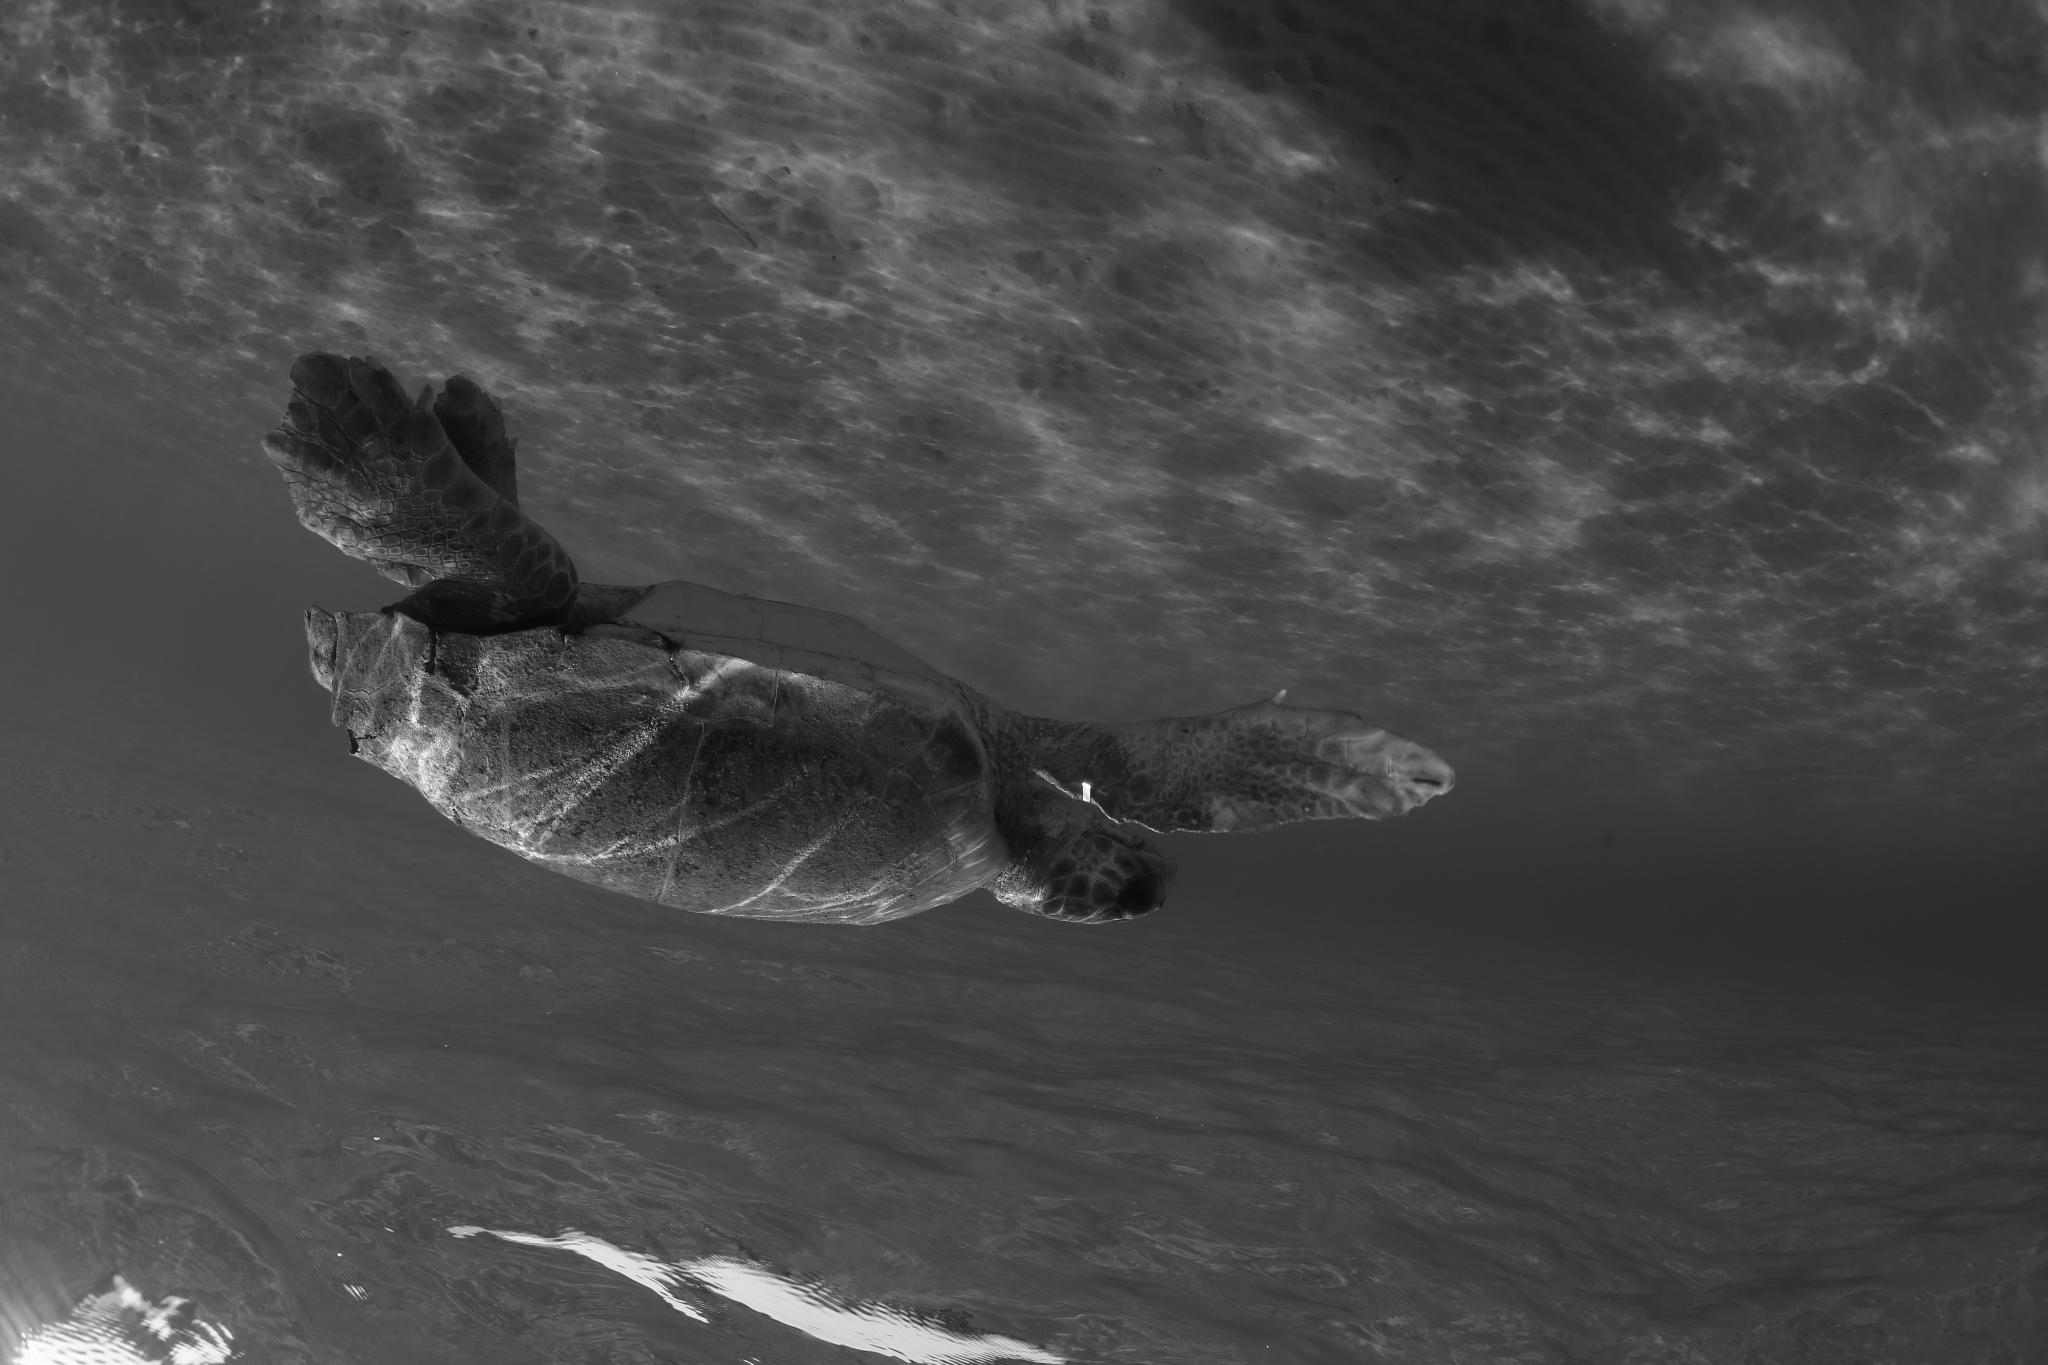Head: (987, 792, 1176, 924)
